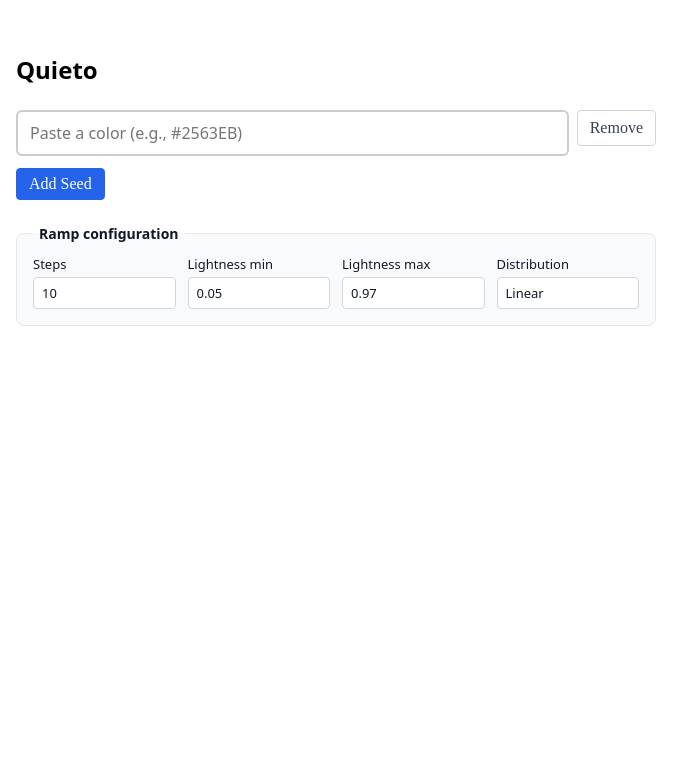
Test: App › multiple seeds › CSS export contains variables for all ramps
The width and height of the screenshot is (673, 765).
Step 1. Type "#2563EB" into the field with placeholder "Paste a color (e.g., #2563EB)" → (292, 133), box [16, 110, 569, 156]
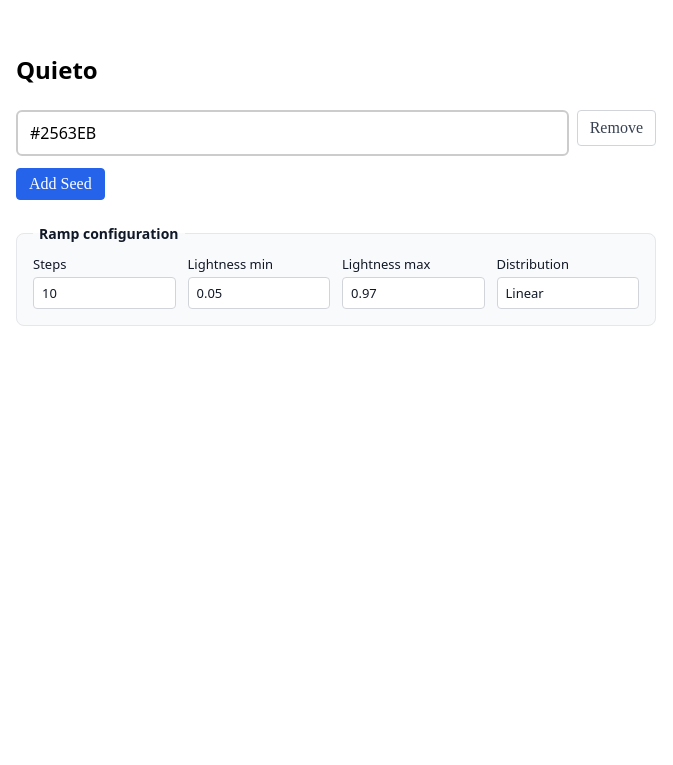
Step 2. Press Enter in the field with placeholder "Paste a color (e.g., #2563EB)", box [16, 110, 569, 156]
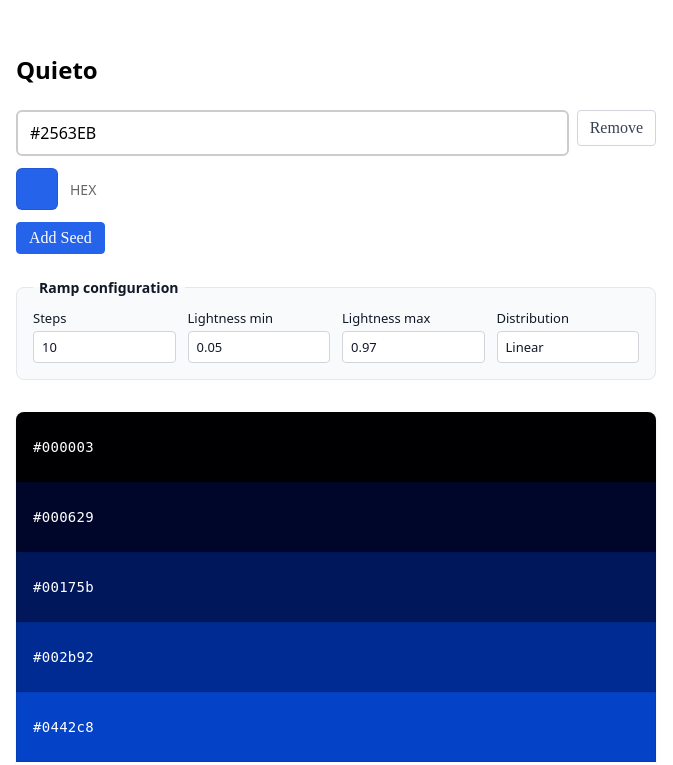
Step 3. Click the button "Add Seed" → (60, 238), box [16, 222, 105, 254]
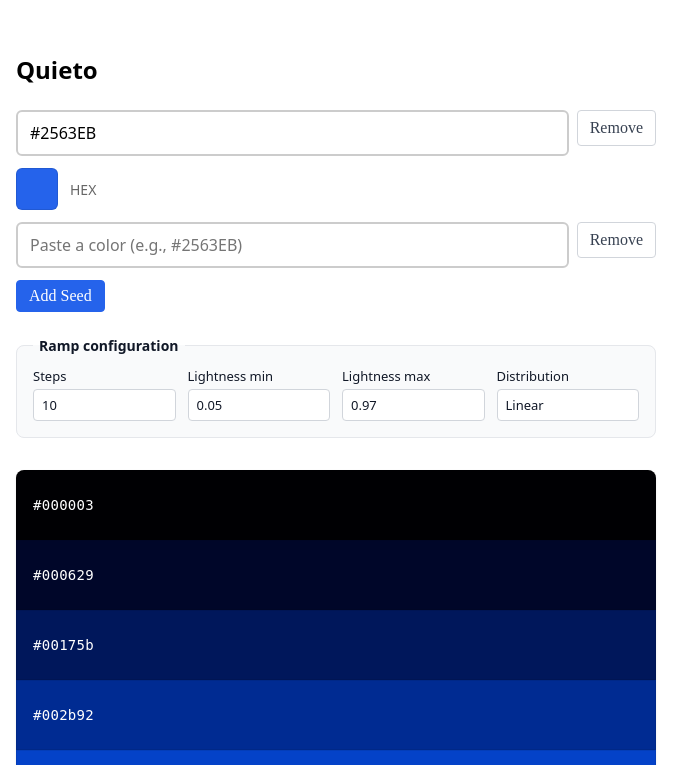
Step 4. Type "#EB2525" into the field with placeholder "Paste a color (e.g., #2563EB)" → (292, 245), box [16, 222, 569, 268]
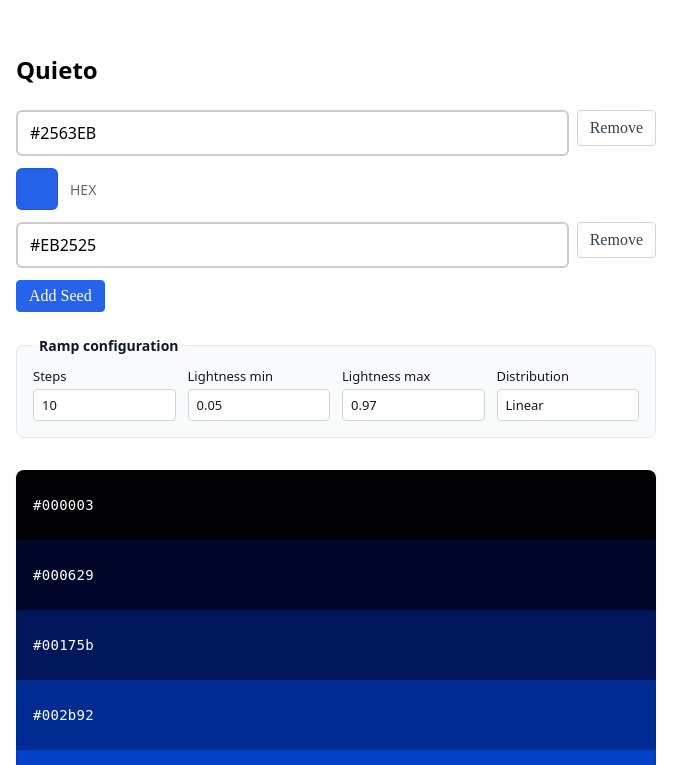
Step 5. Press Enter in the field with placeholder "Paste a color (e.g., #2563EB)", box [16, 222, 569, 268]
(page scrolled)
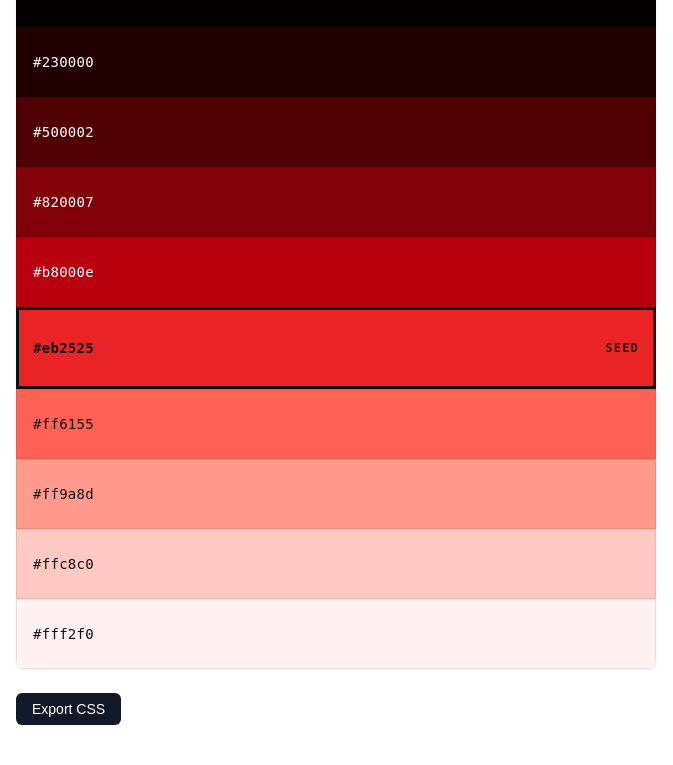
Step 6. Click the button "Export CSS" → (69, 709), box [16, 693, 121, 725]
(page scrolled)
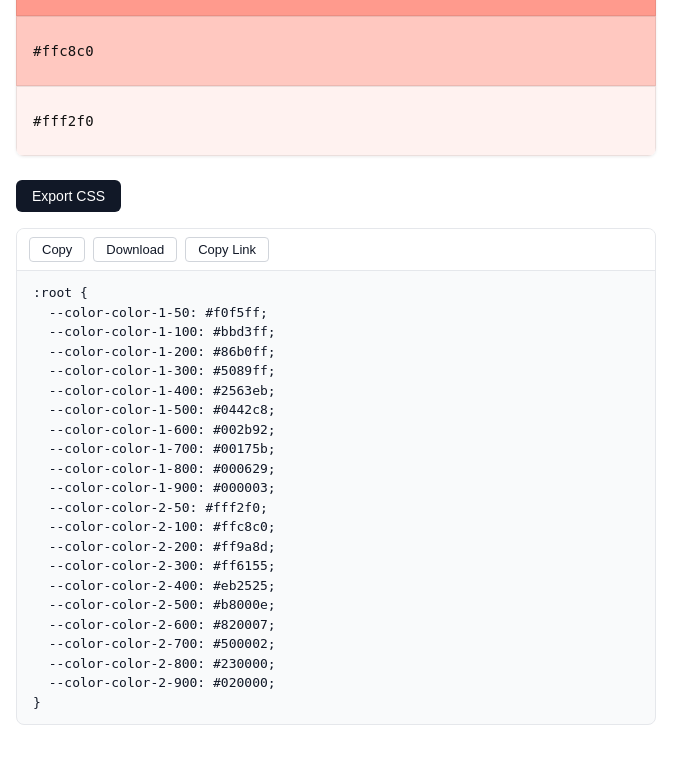
Check: the text named "generated css custom properties" shows "--color-color-1-", box [33, 285, 276, 710]
Check: the text named "generated css custom properties" shows "--color-color-2-", box [33, 285, 276, 710]
